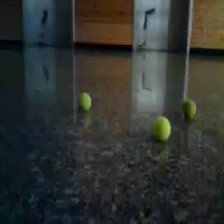tennis: (149, 116, 171, 143), (182, 100, 197, 120), (79, 92, 92, 114)
